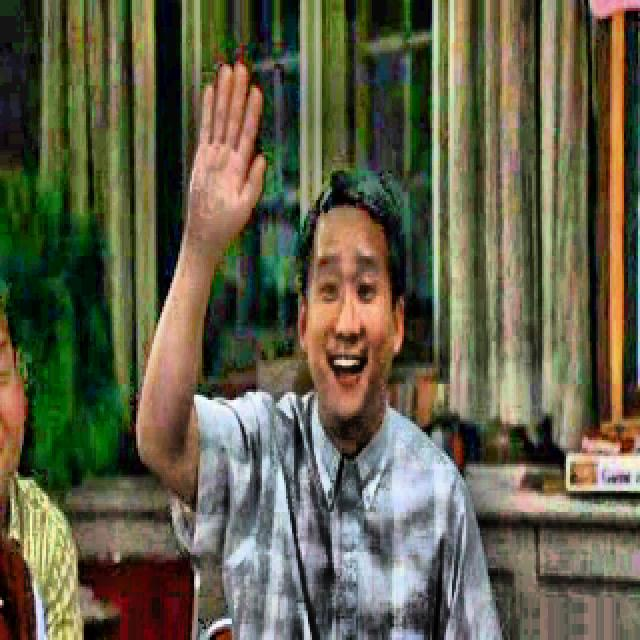T: (128, 49, 508, 640)
